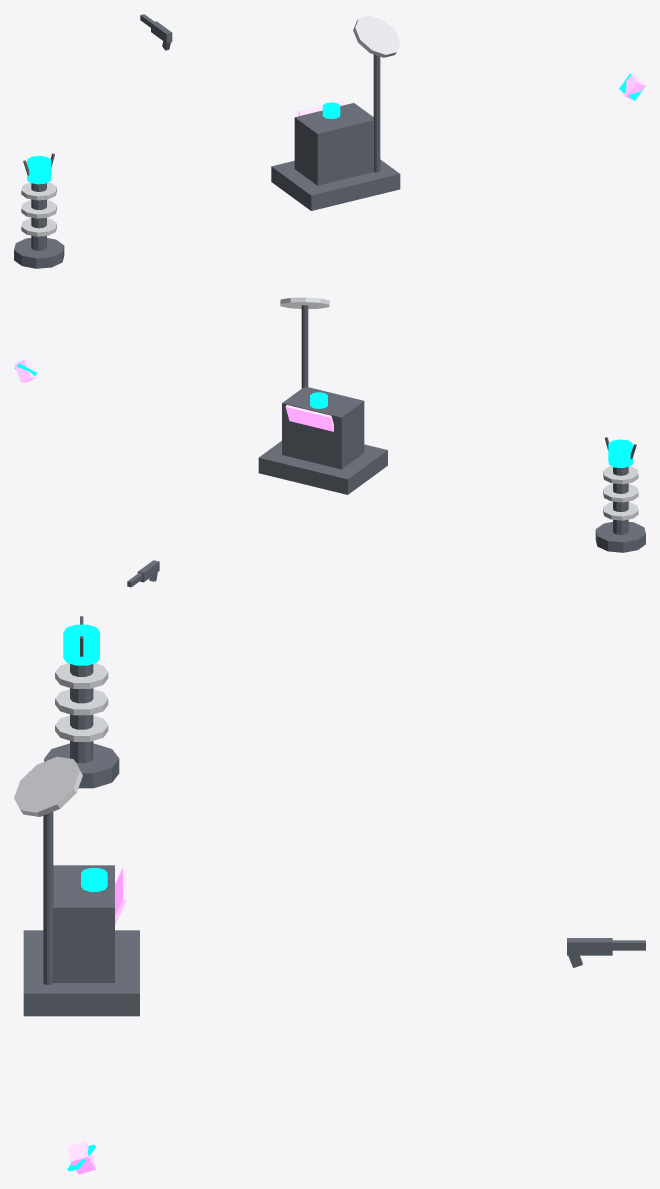
Rendered from arc_props.glb.
The picture shows the model from 3 angles, top to bottom: view 1: azimuth 30°, elevation 25°; view 2: azimuth 150°, elevation 25°; view 3: azimuth 270°, elevation 25°; orthographic projection. The views are drawn at different scales.
Visible parts, largest first — view 1: Rep_Console, Rep_Base, Rep_Dish, Coil_Base, Rep_Mast, Coil_Shaft, Coil_Head, Coil_Ring_0.6, Coil_Ring_0.95, Coil_Ring_1.3; view 2: Rep_Console, Rep_Base, Coil_Base, Rep_Screen, Coil_Shaft, Rep_Mast, Coil_Head, Rep_Dish, Coil_Ring_0.6, Coil_Ring_0.95, Coil_Ring_1.3; view 3: Rep_Console, Rep_Base, Rep_Dish, Rep_Mast, Coil_Base, Coil_Shaft, Coil_Head, Coil_Ring_0.6, Coil_Ring_0.95, Coil_Ring_1.3, Gun_Receiver.
Boxes of the visible parts, x1,y1,x2,y2 form: Rep_Console: [294, 103, 373, 185]; Rep_Base: [271, 159, 400, 210]; Rep_Dish: [353, 15, 400, 57]; Coil_Base: [14, 238, 64, 268]; Rep_Mast: [373, 54, 380, 172]; Coil_Shaft: [31, 183, 46, 250]; Coil_Head: [27, 155, 51, 184]; Coil_Ring_0.6: [21, 218, 56, 236]; Coil_Ring_0.95: [21, 200, 56, 218]; Coil_Ring_1.3: [21, 182, 56, 200]; Rep_Console: [282, 387, 364, 469]; Rep_Base: [258, 441, 387, 494]; Coil_Base: [595, 522, 645, 552]; Rep_Screen: [285, 405, 333, 431]; Coil_Shaft: [613, 467, 628, 534]; Rep_Mast: [301, 305, 308, 388]; Coil_Head: [608, 439, 632, 467]; Rep_Dish: [280, 297, 329, 308]; Coil_Ring_0.6: [603, 502, 638, 520]; Coil_Ring_0.95: [603, 484, 638, 502]; Coil_Ring_1.3: [603, 466, 638, 484]; Rep_Console: [53, 865, 114, 982]; Rep_Base: [23, 930, 139, 1016]; Rep_Dish: [14, 756, 82, 816]; Rep_Mast: [43, 812, 53, 984]; Coil_Base: [44, 743, 119, 788]; Coil_Shaft: [70, 664, 93, 762]; Coil_Head: [63, 624, 99, 665]; Coil_Ring_0.6: [55, 715, 108, 741]; Coil_Ring_0.95: [55, 689, 108, 715]; Coil_Ring_1.3: [55, 663, 108, 688]; Gun_Receiver: [567, 938, 612, 955].
Bounding box in the file's own units: 12.67 × 3.18 × 7.59.
